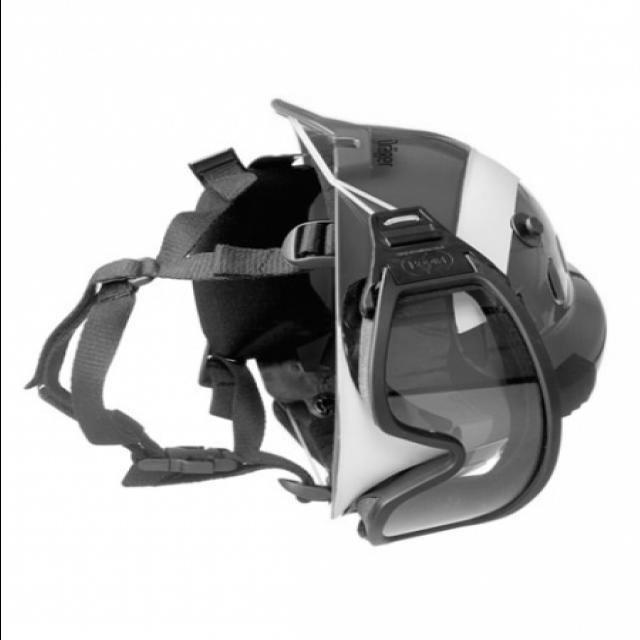safety_helmet: (27, 102, 603, 548)
